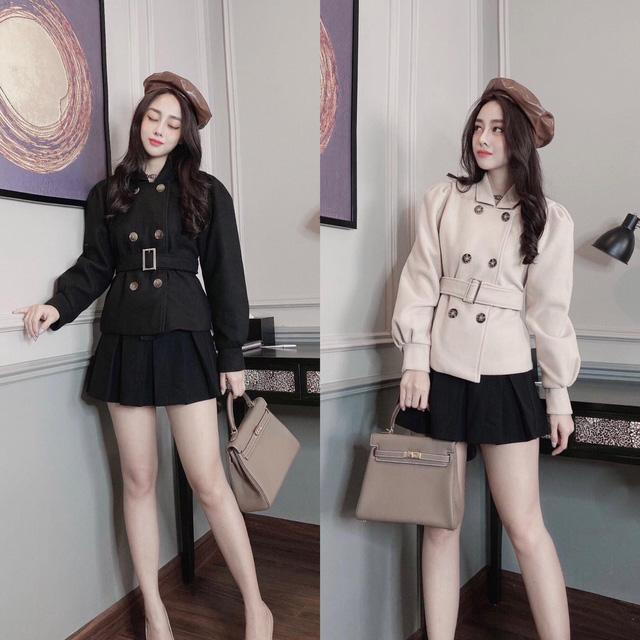clothes: (386, 176, 584, 454), (56, 164, 247, 410)
